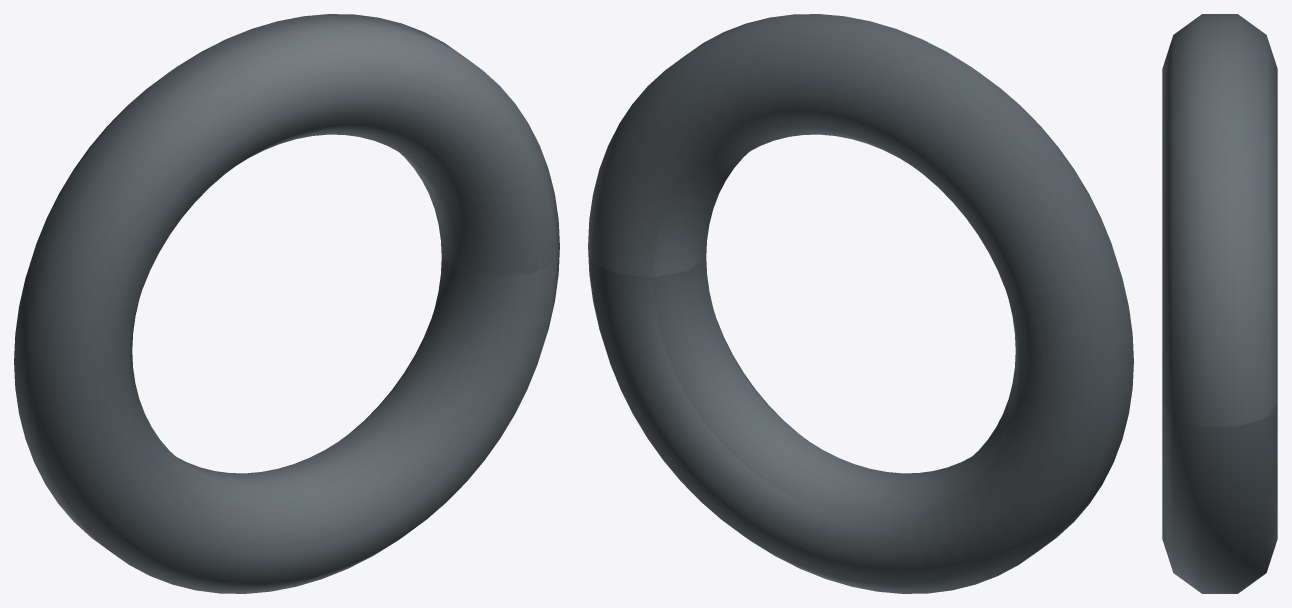
Rendered from terminal.hoist.r02.link.glb.
3 views of the same model, side by side, from view 1: azimuth 30°, elevation 25°; view 2: azimuth 150°, elevation 25°; view 3: azimuth 270°, elevation 25° (orthographic). The views are drawn at different scales.
Visible parts, largest first — view 1: terminal.hoist.r02.link; view 2: terminal.hoist.r02.link; view 3: terminal.hoist.r02.link.
Boxes of the visible parts, x1,y1,x2,y2 form: terminal.hoist.r02.link: (14, 14, 559, 593); terminal.hoist.r02.link: (588, 14, 1133, 593); terminal.hoist.r02.link: (1162, 14, 1277, 593).
Size of the model in its own units: 0.1208 by 0.1208 by 0.024.
1 material, 1 textured.
